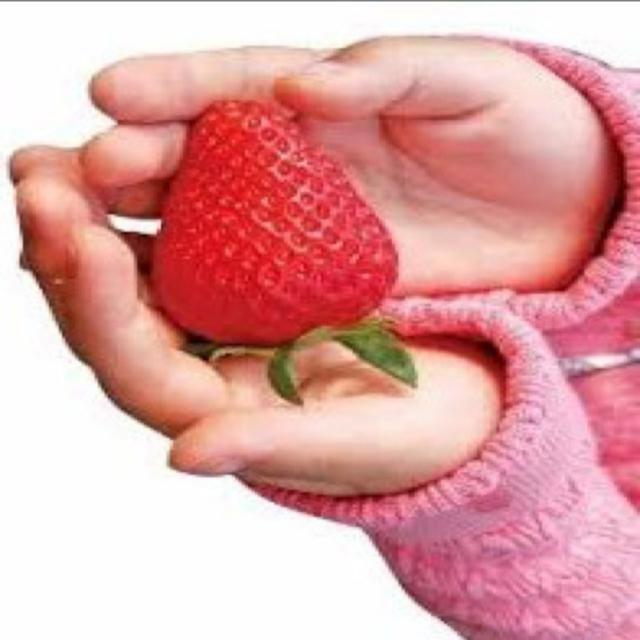ripe: (148, 99, 402, 348)
